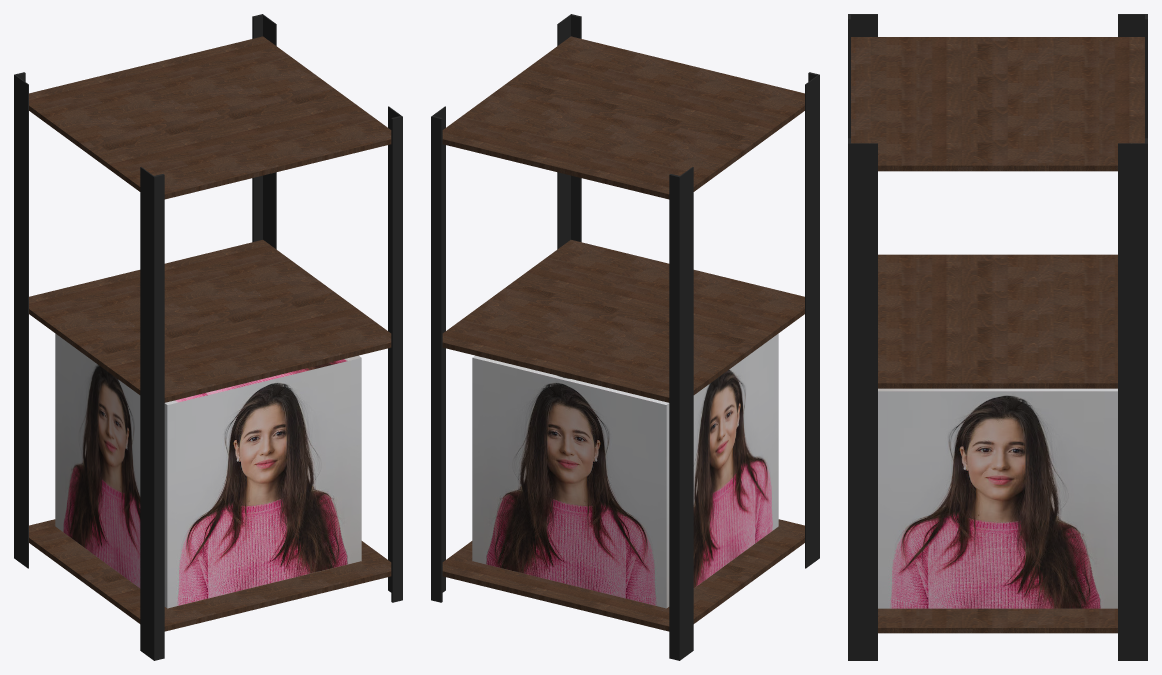
File: small_rack_female.dae
3 views of the same model, side by side, from view 1: azimuth 30°, elevation 25°; view 2: azimuth 150°, elevation 25°; view 3: azimuth 270°, elevation 25° (orthographic). The views are drawn at different scales.
Parts seen in each view (by area): view 1: Cube.001, Family2 Family2 [5175].001, Family2 Family2 [5175].002, Extrusion [3348], Family2 Family2 [5175]; view 2: Cube.001, Family2 Family2 [5175].001, Family2 Family2 [5175].002, Extrusion [3348], Family2 Family2 [5175]; view 3: Cube.001, Family2 Family2 [5175].001, Extrusion [3348], Family2 Family2 [5175].002, Family2 Family2 [5175].
Part boxes in pixels (left/top/right/bottom): Cube.001: left=55, top=333, right=361, bottom=608; Family2 Family2 [5175].001: left=29, top=36, right=391, bottom=199; Family2 Family2 [5175].002: left=29, top=240, right=391, bottom=402; Extrusion [3348]: left=14, top=14, right=402, bottom=660; Family2 Family2 [5175]: left=29, top=519, right=391, bottom=631; Cube.001: left=472, top=333, right=778, bottom=608; Family2 Family2 [5175].001: left=442, top=36, right=804, bottom=199; Family2 Family2 [5175].002: left=442, top=240, right=804, bottom=402; Extrusion [3348]: left=431, top=14, right=819, bottom=660; Family2 Family2 [5175]: left=442, top=519, right=804, bottom=631; Cube.001: left=878, top=388, right=1117, bottom=608; Family2 Family2 [5175].001: left=851, top=37, right=1144, bottom=171; Extrusion [3348]: left=848, top=14, right=1147, bottom=660; Family2 Family2 [5175].002: left=878, top=254, right=1117, bottom=388; Family2 Family2 [5175]: left=878, top=608, right=1117, bottom=633.
Size of the model in its own units: 0.5118 by 0.5 by 0.9514.
3 materials, 2 textured.
